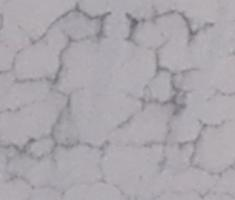fissura: (2, 3, 235, 200)
